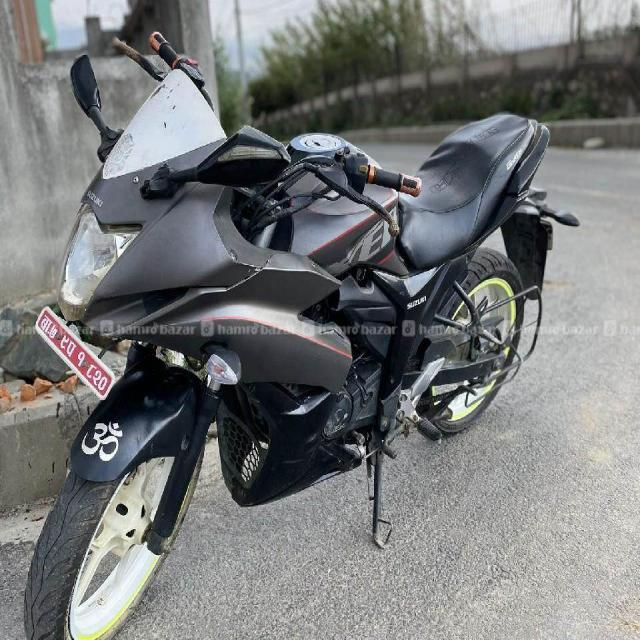License-plate: (36, 298, 115, 412)
